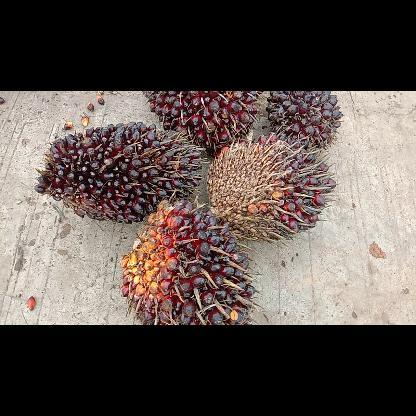TBS mentah: (119, 194, 260, 324), (34, 120, 204, 224), (209, 132, 338, 242), (142, 91, 260, 157), (265, 90, 342, 150)
